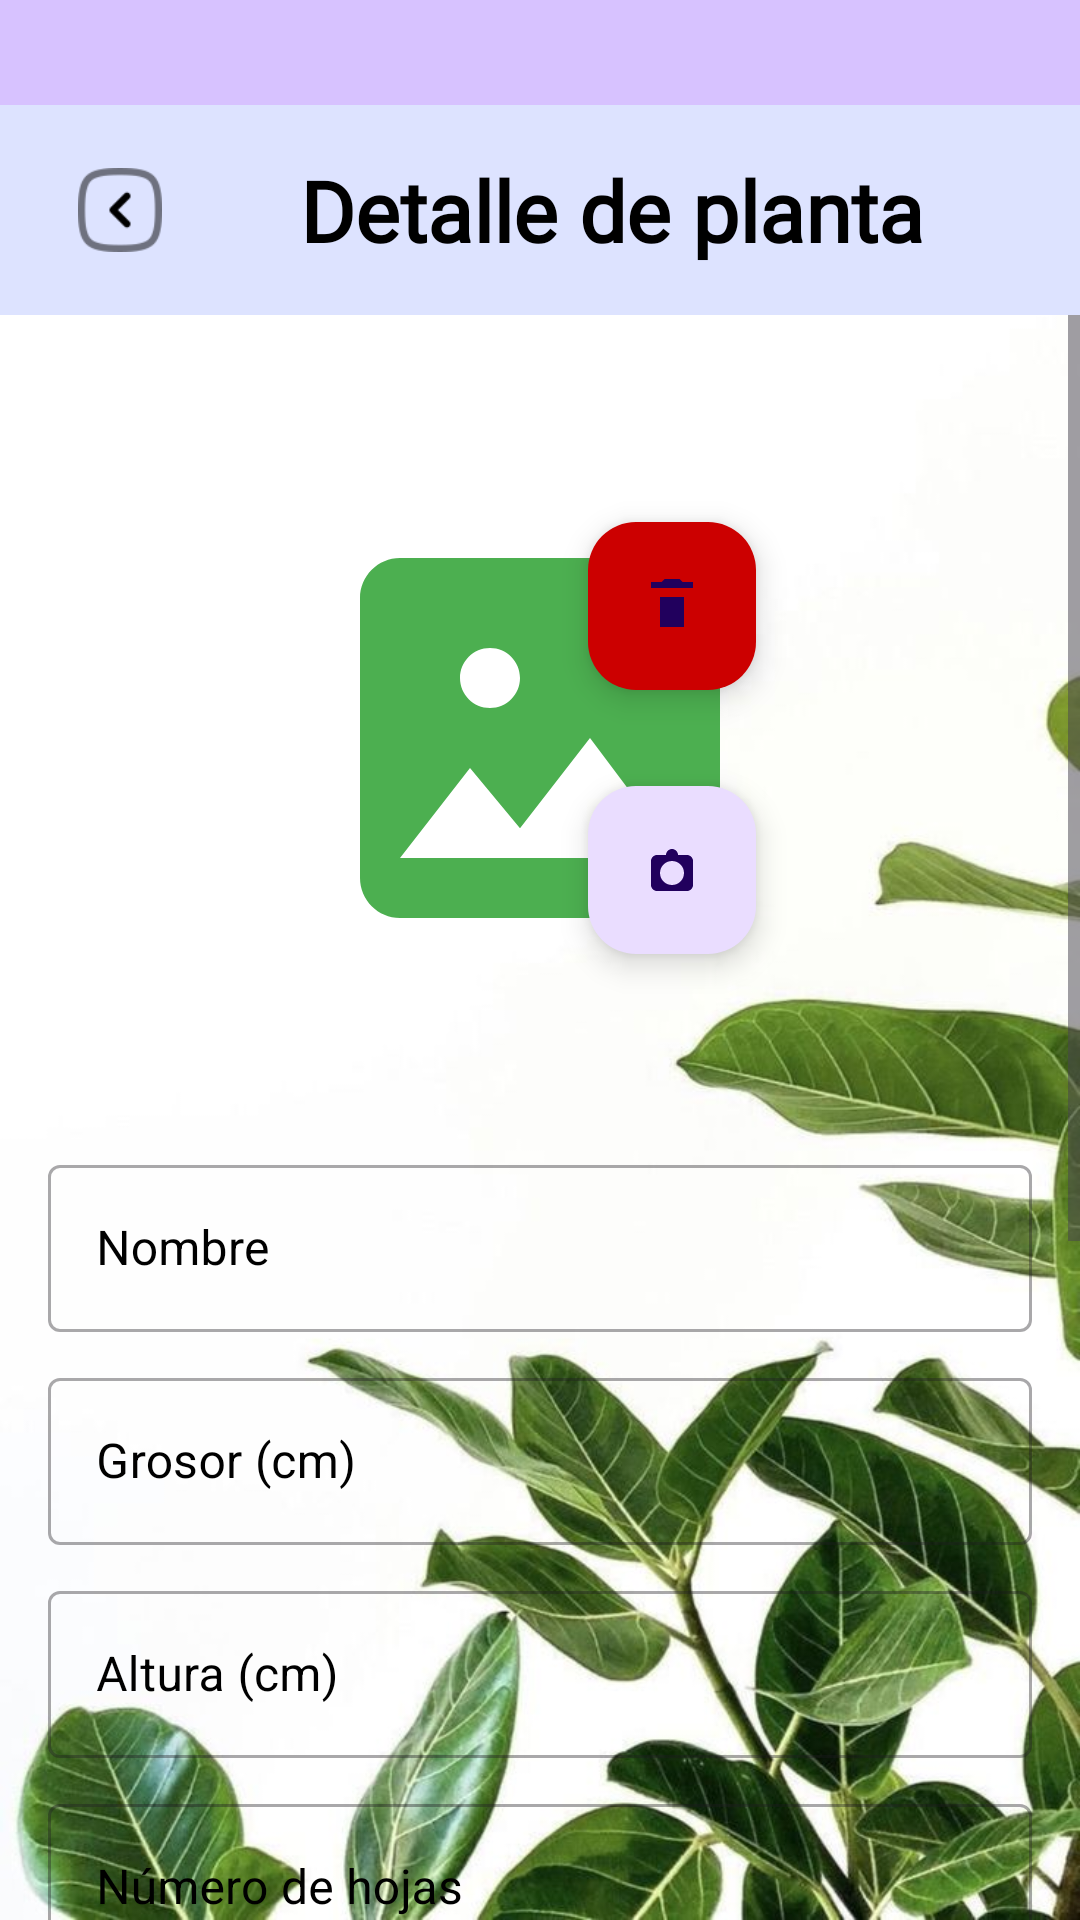

Point at icon controls on the screen. Image size 1080×1920, points as point (x, y).
Cambiar foto: point (672, 870)
Eliminar foto: point (672, 606)
flecha regresar: point (120, 210)
